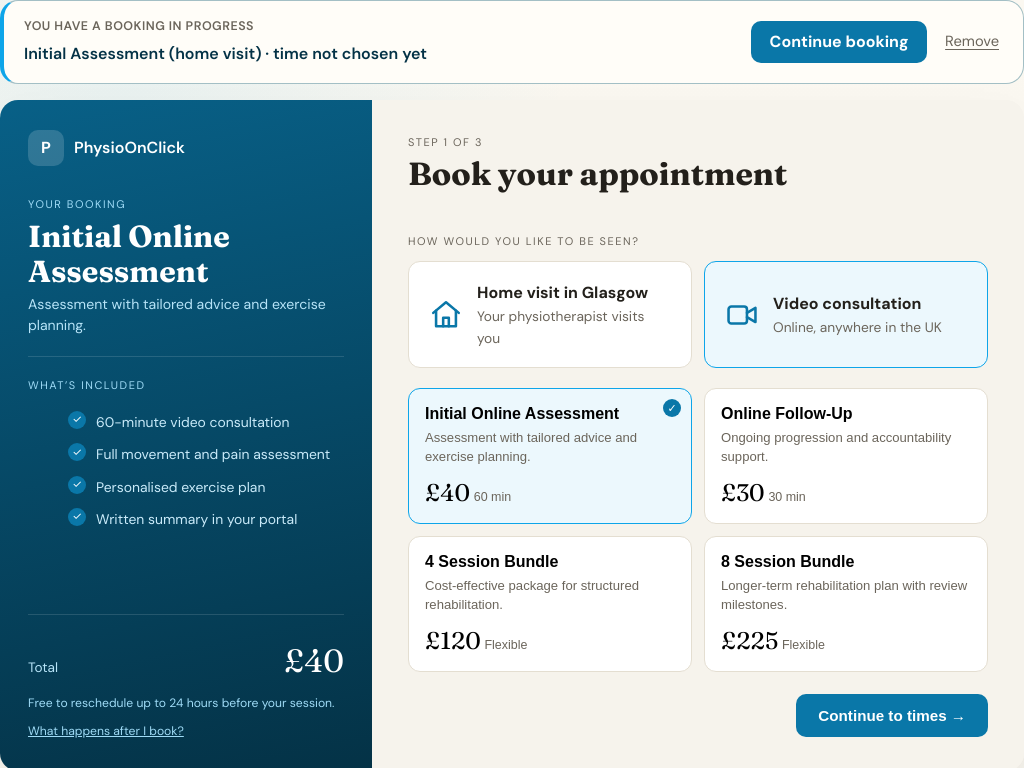
Scenario: booking address book › defaults to "Use a different address" when there is no usual address
What coordinates should you click on to do the following:
click the radio button labelled "Home visit in Glasgow Your physiotherapist visits you"
I would click on:
 (550, 314)
Its box is x1=408 y1=261 x2=692 y2=368.
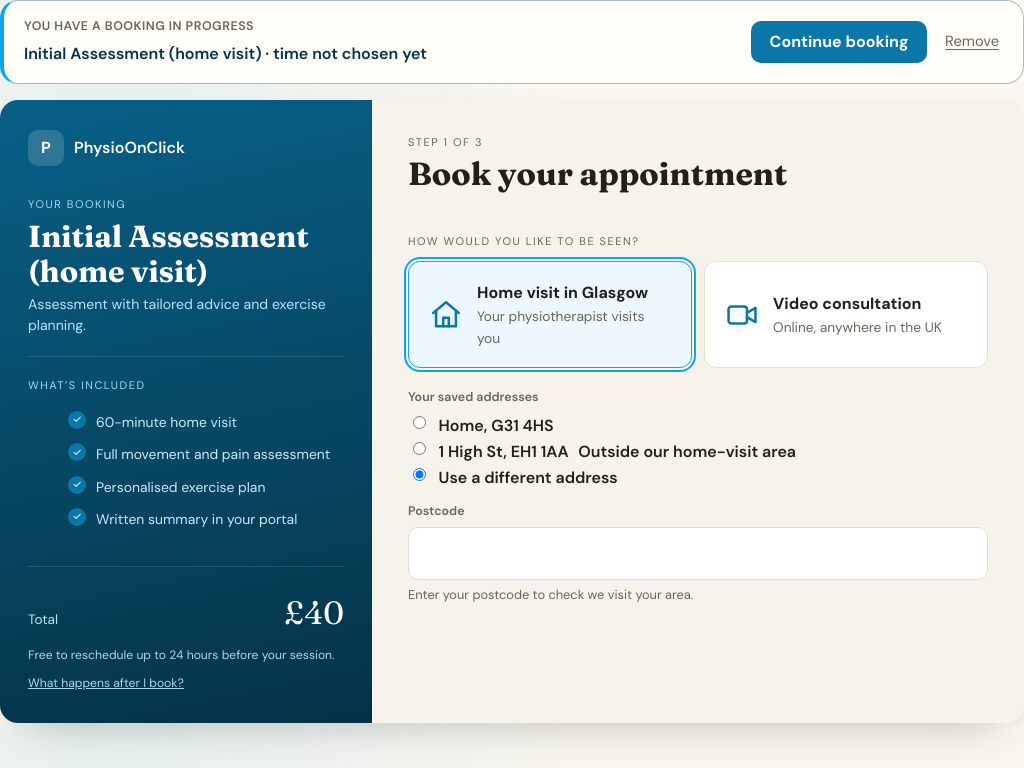
Now the radio button labelled "Use a different address" is checked, box x1=413 y1=468 x2=426 y2=480
Now the field labelled "Postcode" is shown, box x1=408 y1=527 x2=988 y2=580
